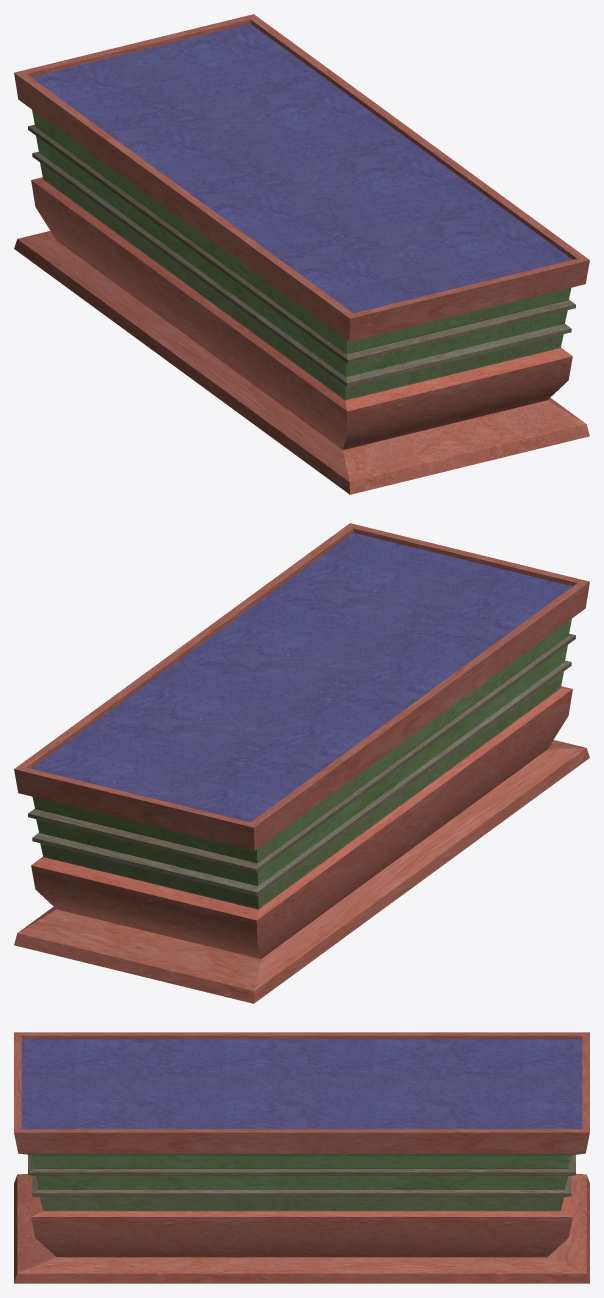
Rendered from camaTeii.FBX.
The picture shows the model from 3 angles, top to bottom: view 1: azimuth 30°, elevation 25°; view 2: azimuth 150°, elevation 25°; view 3: azimuth 270°, elevation 25°; orthographic projection. The views are drawn at different scales.
Visible parts, largest first — view 1: Box001; view 2: Box001; view 3: Box001.
Part boxes in pixels (x1,y1,x2,y2): Box001: [14, 14, 589, 494]; Box001: [14, 523, 589, 1003]; Box001: [14, 1032, 589, 1283].
Size of the model in its own units: 65.63 by 46.06 by 159.
